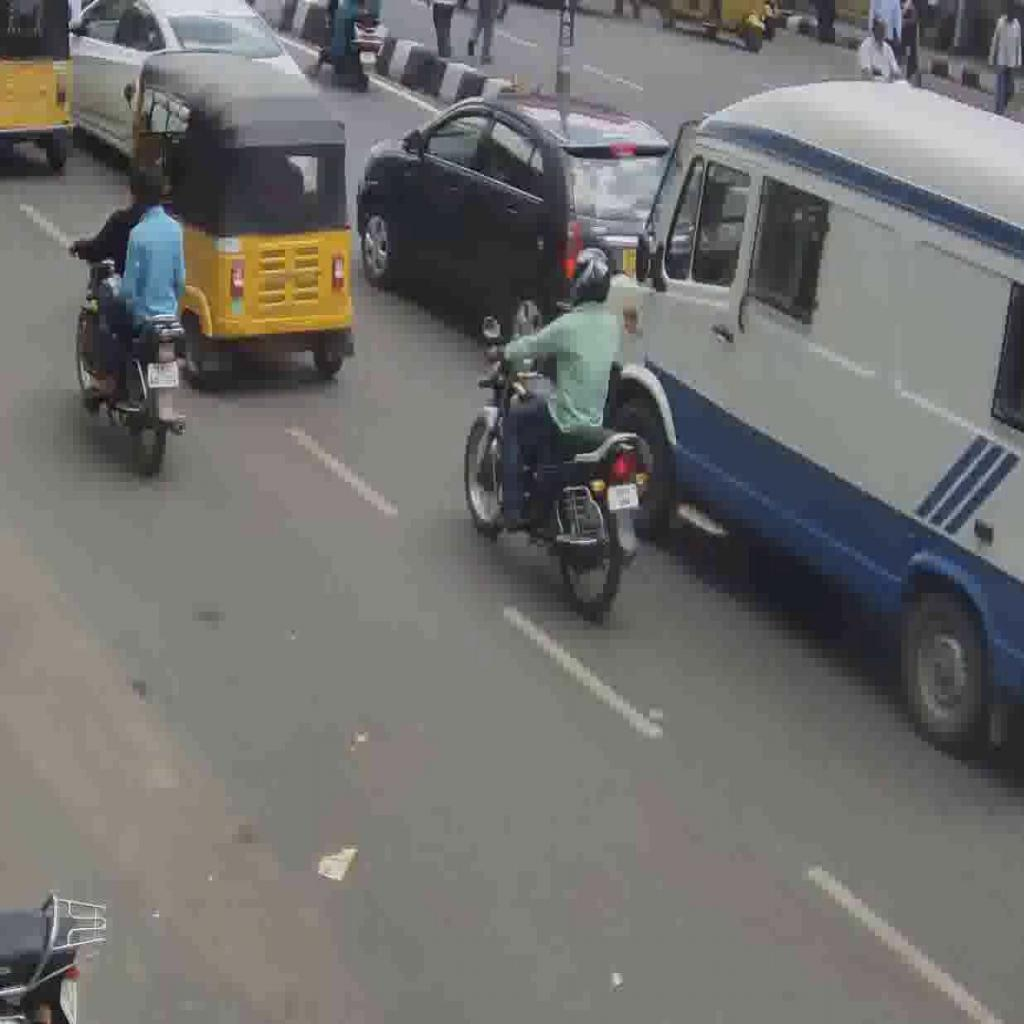helmet: (464, 338, 648, 617), (76, 229, 188, 474)
